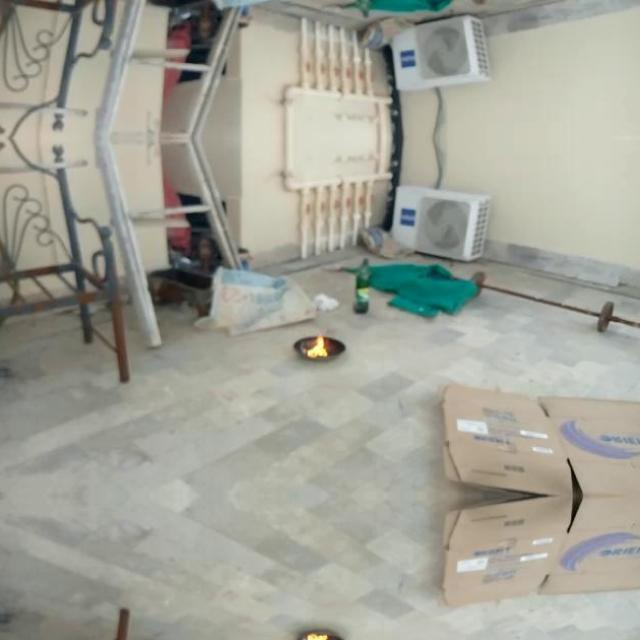smoke: (308, 334, 330, 357)
